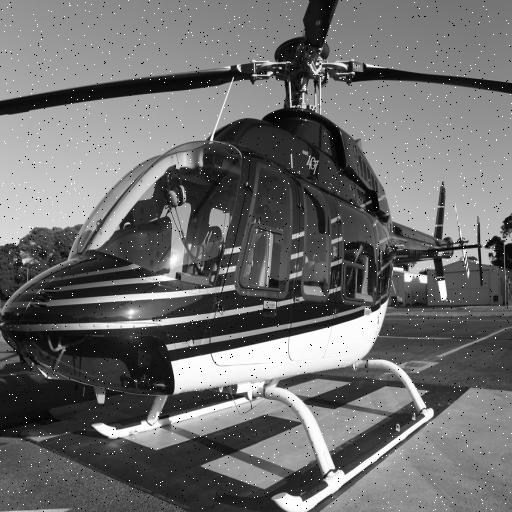helicopter: (1, 18, 478, 512)
